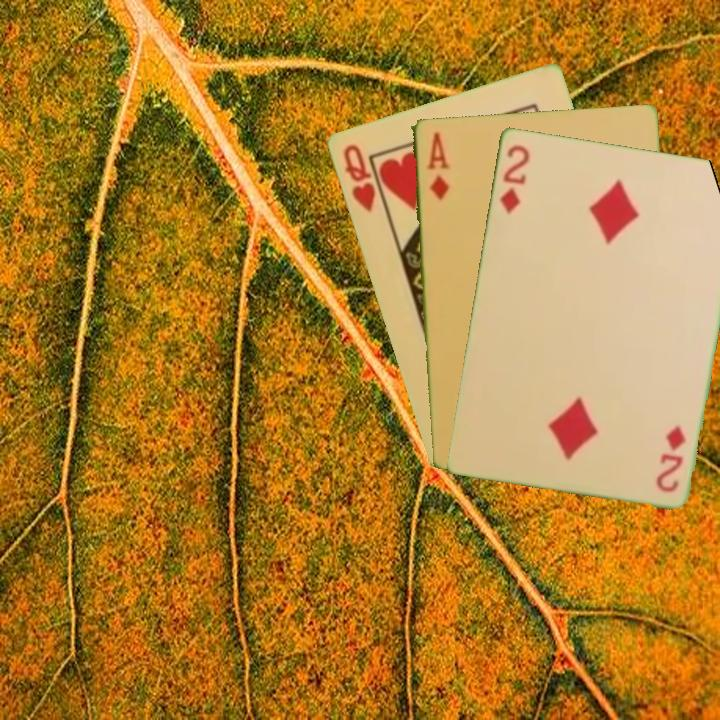2d: (496, 140, 532, 217), (654, 421, 688, 495)
Ad: (422, 127, 452, 203)
Qh: (339, 140, 378, 215)
